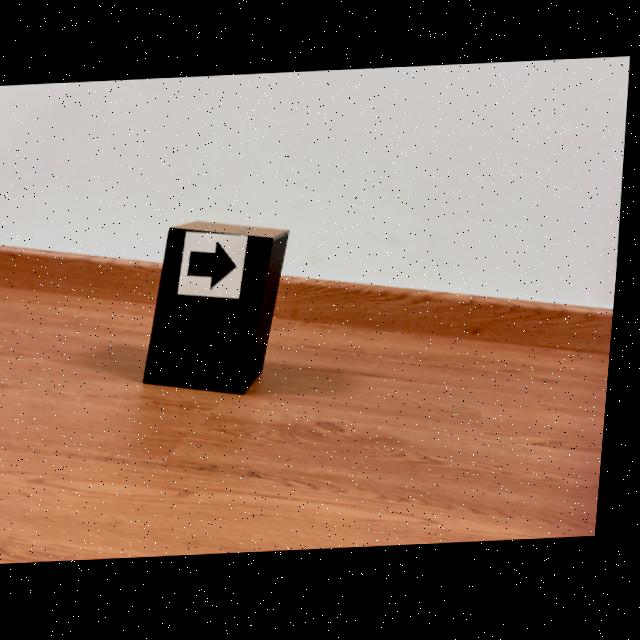RIGHT: (193, 243, 240, 289)
